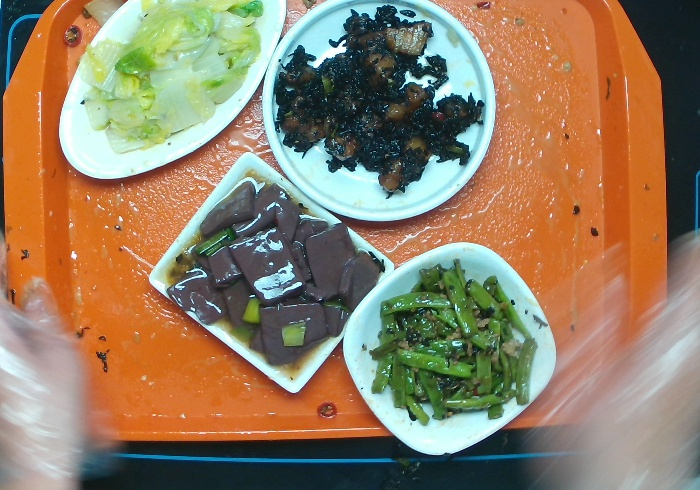HZYJPL-Si_Fang_Die: (147, 147, 399, 394)
HZYJPL-Si_Fang_Yuan_Die: (339, 235, 561, 467)
HZYJPL-Xiao_Yu_Die: (55, 4, 293, 188)
HZYJPL-Xiao_Yuan_Die: (257, 1, 499, 243)
